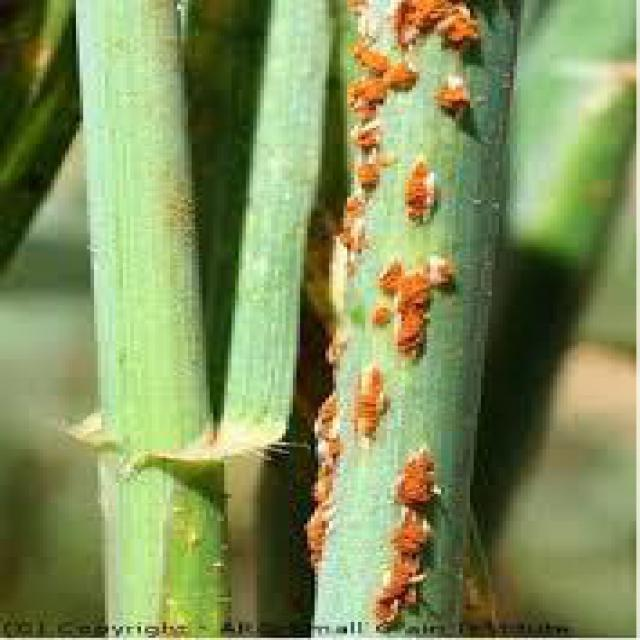Stem Rust: (305, 7, 481, 640)
